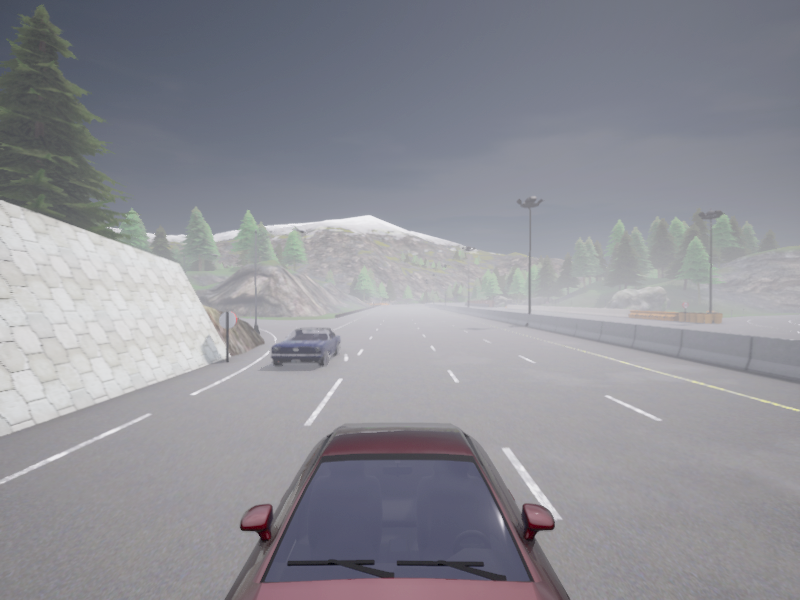vehicle: (224, 422, 570, 599), (270, 327, 340, 366)
